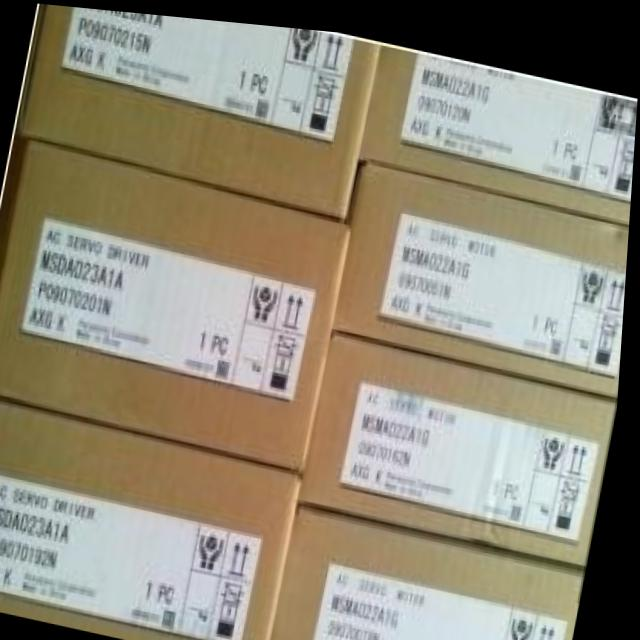box: (0, 136, 351, 465), (24, 3, 381, 217), (0, 399, 306, 640), (301, 331, 620, 556), (335, 157, 631, 387), (361, 38, 638, 211), (277, 503, 590, 640)
